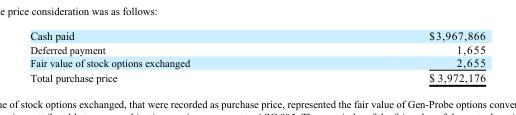table: (29, 29, 484, 83)
table column: (29, 29, 308, 83), (308, 29, 484, 83)
table row: (29, 55, 484, 69), (29, 69, 484, 83), (29, 29, 484, 42), (29, 42, 484, 55)
